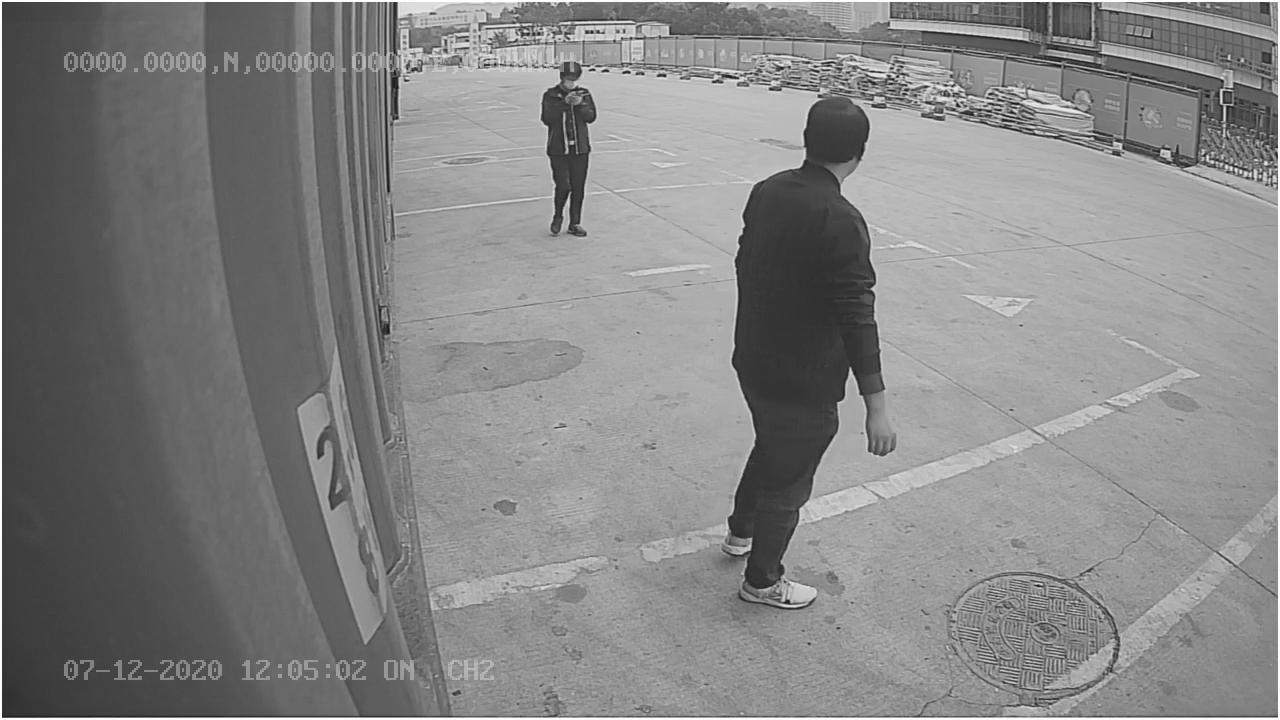person: (722, 92, 896, 614)
